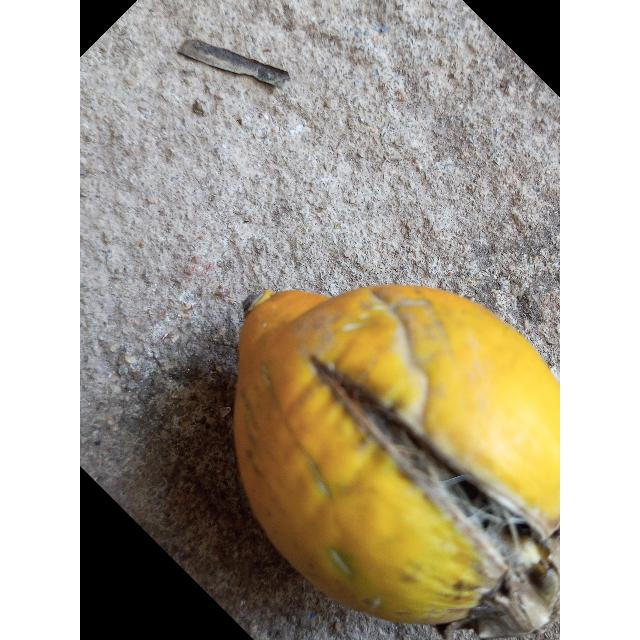damaged: (233, 284, 560, 640)
